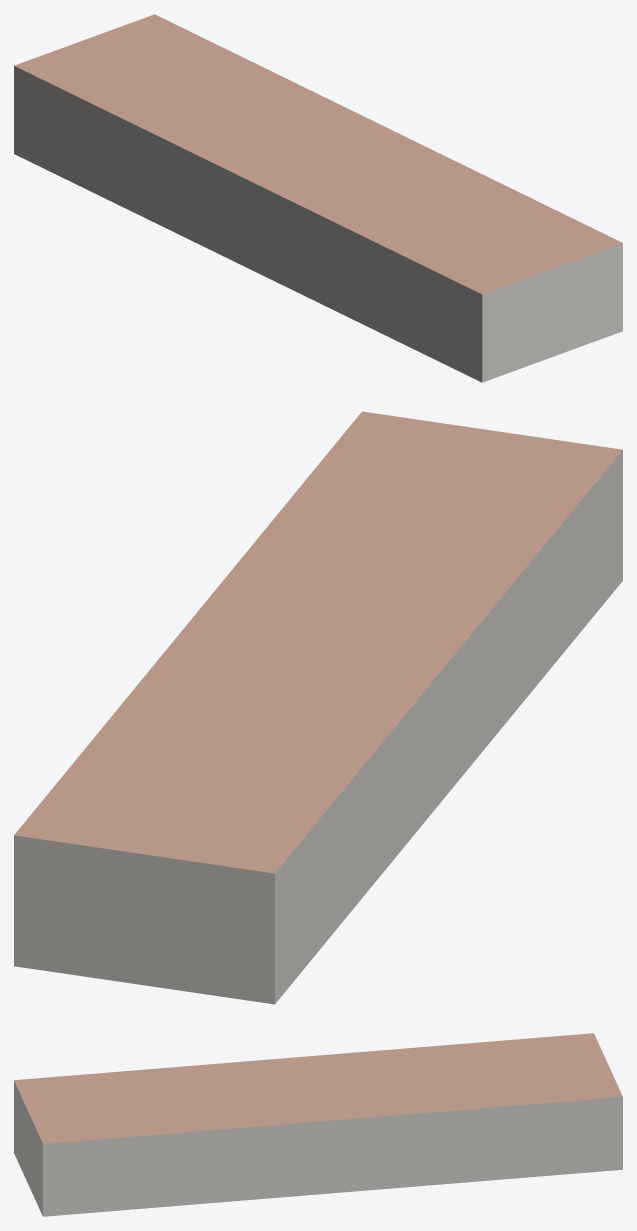
Rendered from gridID_34.dae.
3 views of the same model, one above another, from view 1: azimuth 30°, elevation 25°; view 2: azimuth 150°, elevation 25°; view 3: azimuth 270°, elevation 25° (orthographic). The views are drawn at different scales.
Visible parts, largest first — view 1: model_gridID_34_w379069949; view 2: model_gridID_34_w379069949; view 3: model_gridID_34_w379069949.
Part boxes in pixels (left/top/right/bottom): model_gridID_34_w379069949: left=14, top=14, right=622, bottom=382; model_gridID_34_w379069949: left=14, top=411, right=622, bottom=1004; model_gridID_34_w379069949: left=14, top=1033, right=622, bottom=1216.
Bounding box in the file's own units: 24.46 × 56.83 × 7.5.
